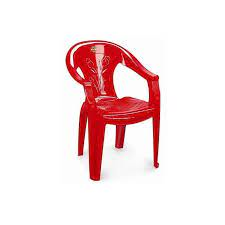chair: (66, 37, 165, 176)
